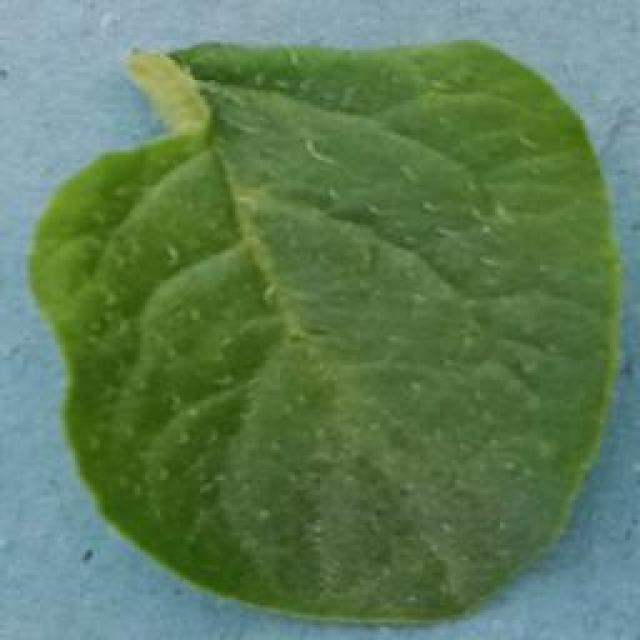Potato_Healthy: (28, 39, 614, 622)
